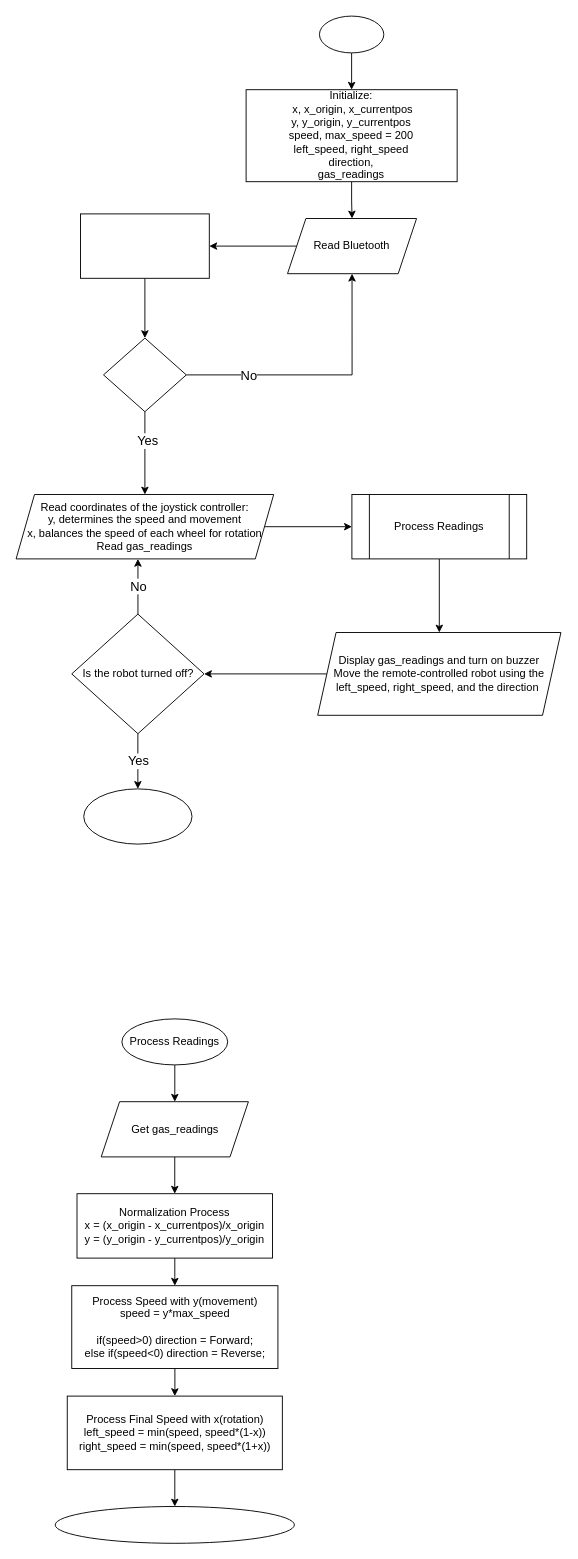
The diagram is 578 pixels wide and 1559 high, and some of its shapes have lost their labels. The centre of each missing label's shape, as x and y in pixels:
Connect to the controller with Bluetooth: point 144,245
End: point 137,816
Is connected?: point 144,374
return gas_readings, left_speed, right_speed: point 174,1524
Start: point 351,34
